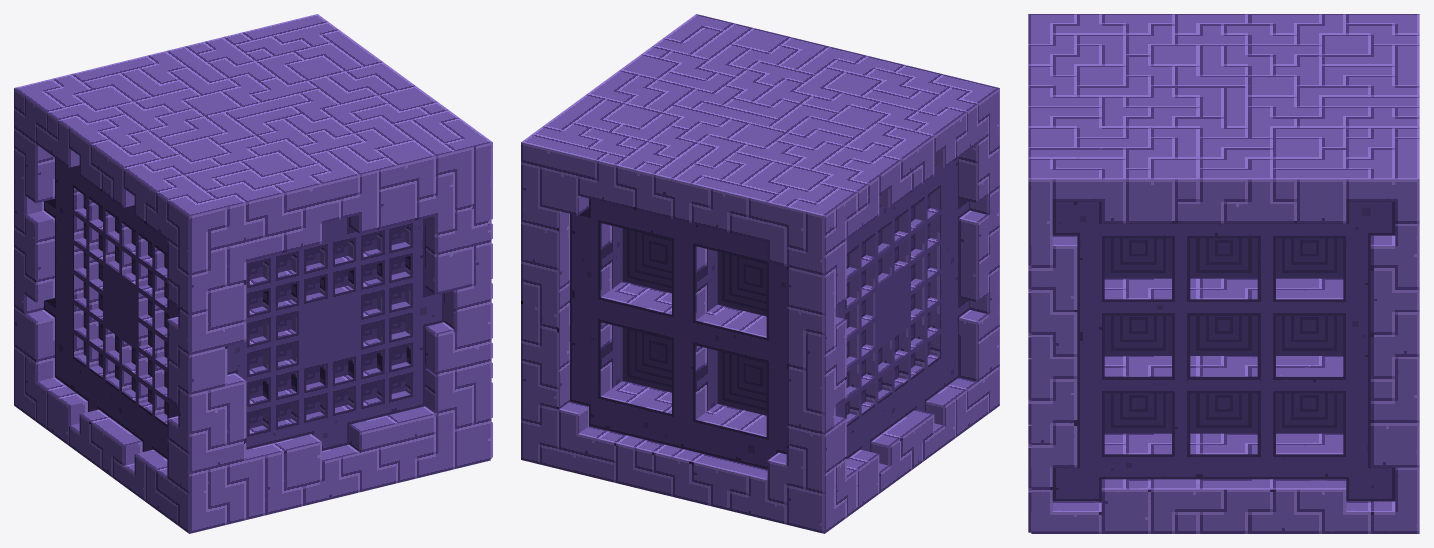
File: menu_cubeao.fezao.glb
3 views of the same model, side by side, from view 1: azimuth 30°, elevation 25°; view 2: azimuth 150°, elevation 25°; view 3: azimuth 270°, elevation 25° (orthographic). The views are drawn at different scales.
Visible parts, largest first — view 1: MENU_CUBEAO; view 2: MENU_CUBEAO; view 3: MENU_CUBEAO.
Part boxes in pixels (bbox=[...]): MENU_CUBEAO: bbox=[14, 14, 492, 533]; MENU_CUBEAO: bbox=[521, 14, 999, 533]; MENU_CUBEAO: bbox=[1028, 14, 1419, 533].
Size of the model in its own units: 8 by 8 by 8.
Materials: 1 (1 with a texture image).
